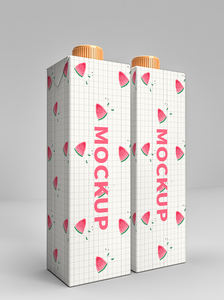carton: (39, 30, 133, 291), (134, 30, 205, 277)
